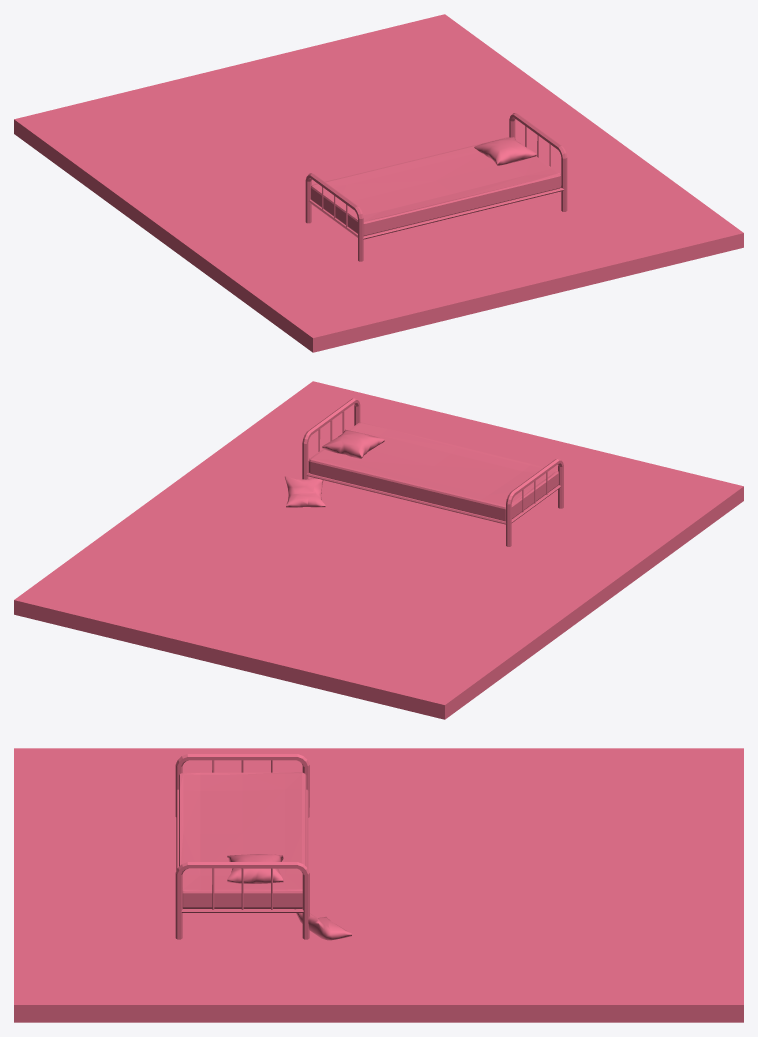
File: actress_scenery_decor.glb
3 renders of one model, top to bottom at view 1: azimuth 30°, elevation 25°; view 2: azimuth 150°, elevation 25°; view 3: azimuth 270°, elevation 25°, orthographic. The views are drawn at different scales.
Visible parts, largest first — view 1: Cube.2, MATELAS, coussin1, SOMMIER, ARCEAU BAS, ARCEAU HAUT; view 2: Cube.2, MATELAS, coussin1, coussin2, SOMMIER, ARCEAU BAS, ARCEAU HAUT; view 3: Cube.2, MATELAS, ARCEAU HAUT, ARCEAU BAS, coussin1, SOMMIER, coussin2.
Boxes of the visible parts, bbox=[...] form: Cube.2: bbox=[14, 14, 743, 352]; MATELAS: bbox=[310, 137, 560, 235]; coussin1: bbox=[474, 137, 536, 165]; SOMMIER: bbox=[308, 184, 563, 239]; ARCEAU BAS: bbox=[305, 173, 363, 261]; ARCEAU HAUT: bbox=[509, 113, 567, 211]; Cube.2: bbox=[14, 381, 743, 719]; MATELAS: bbox=[308, 422, 558, 521]; coussin1: bbox=[322, 429, 384, 458]; coussin2: bbox=[284, 476, 325, 507]; SOMMIER: bbox=[306, 470, 560, 524]; ARCEAU BAS: bbox=[506, 458, 563, 546]; ARCEAU HAUT: bbox=[302, 398, 360, 479]; Cube.2: bbox=[14, 748, 743, 1022]; MATELAS: bbox=[179, 772, 306, 908]; ARCEAU HAUT: bbox=[175, 862, 309, 939]; ARCEAU BAS: bbox=[175, 754, 309, 817]; coussin1: bbox=[227, 854, 283, 883]; SOMMIER: bbox=[176, 789, 308, 912]; coussin2: bbox=[294, 909, 351, 940].
Bounding box in the file's own units: 430 × 73.35 × 516.
